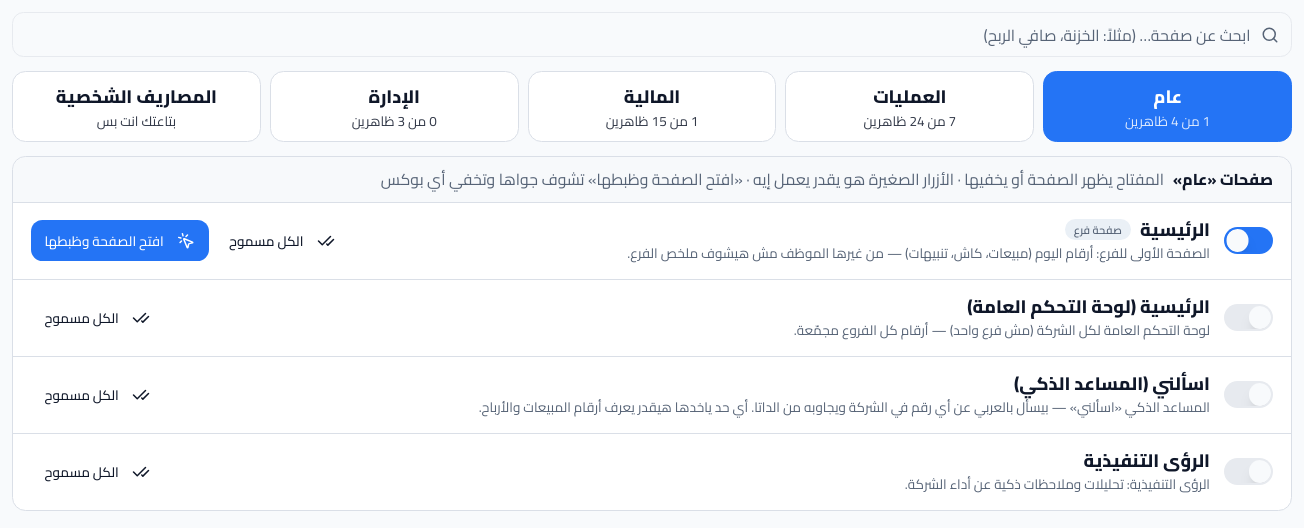
Test case: PermissionEditor › search finds a card on any tab
Type "صافي الربح" into the field named "بحث في الصلاحيات". click: (652, 34)
box: [12,12,1292,57]
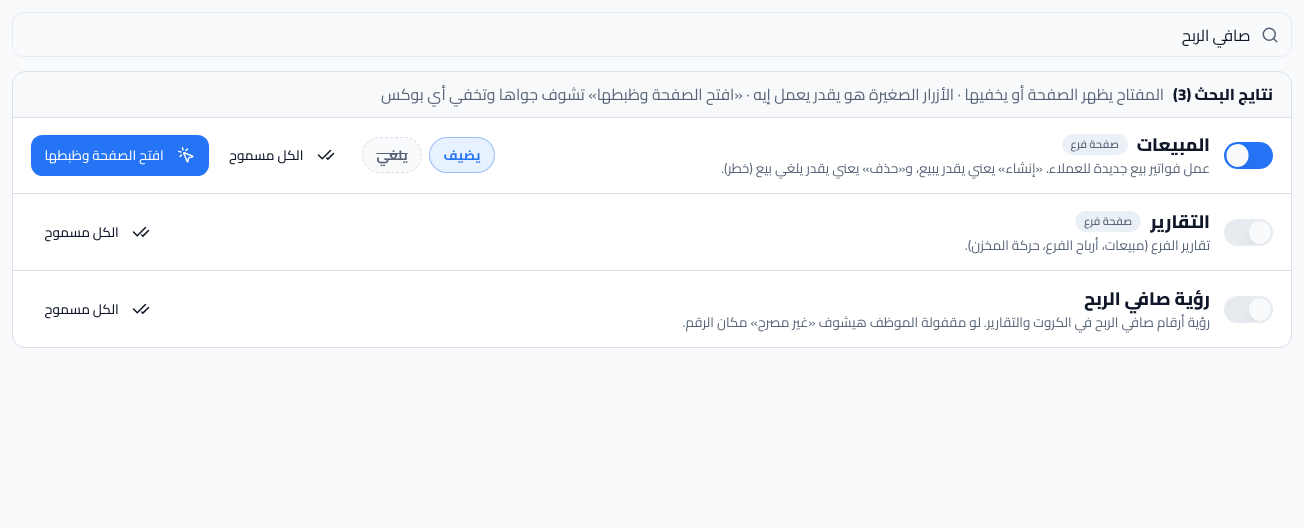
Expected: the text "نتايج البحث (3)" is shown, [1173,83,1273,105]
Expected: the text "رؤية صافي الربح" is shown, [1084,282,1210,315]
Expected: no tabs are shown
